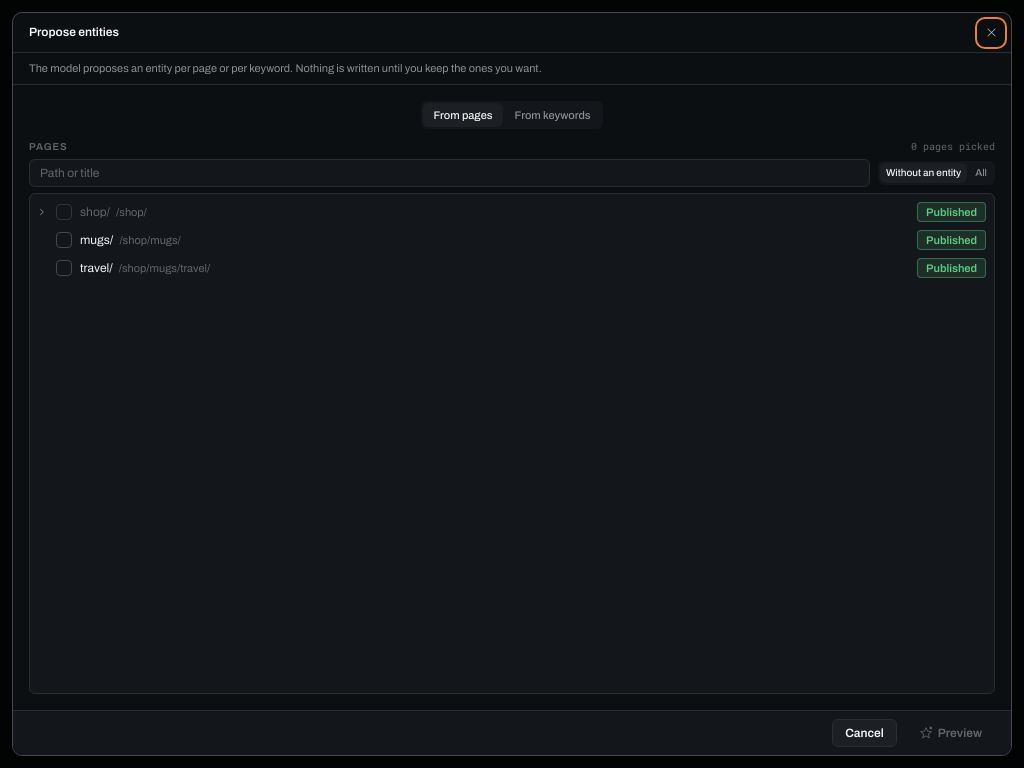
Test: what the entity proposal drawer keeps › keeps the ancestors of a search match in view
The width and height of the screenshot is (1024, 768).
Click the checkbox labelled "mugs/".
click(85, 240)  # box [56, 232, 113, 248]
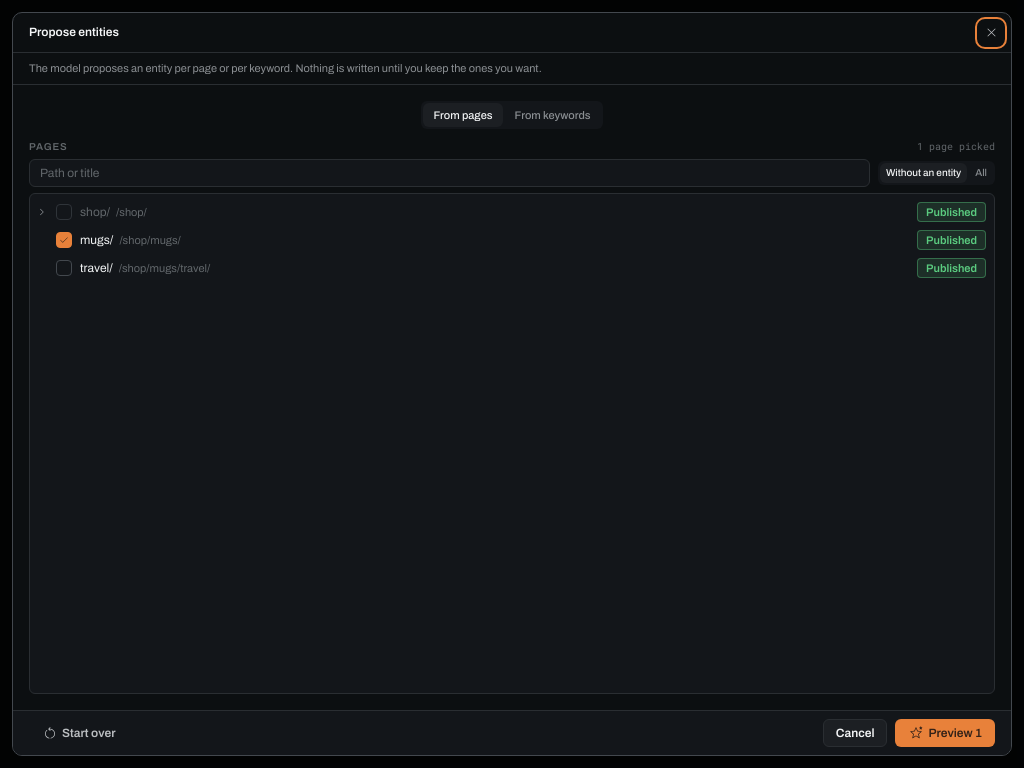
Click the checkbox labelled "travel/".
click(84, 268)  # box [56, 260, 113, 276]
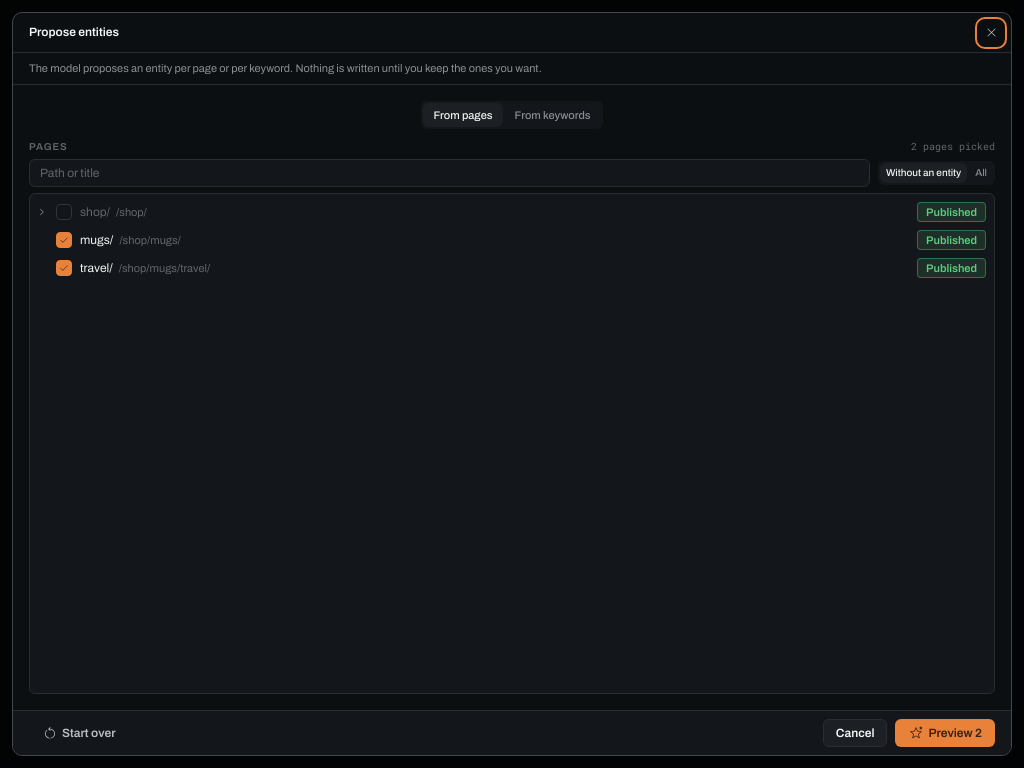
Click the button "Preview 2".
click(945, 733)  # box [896, 719, 995, 747]
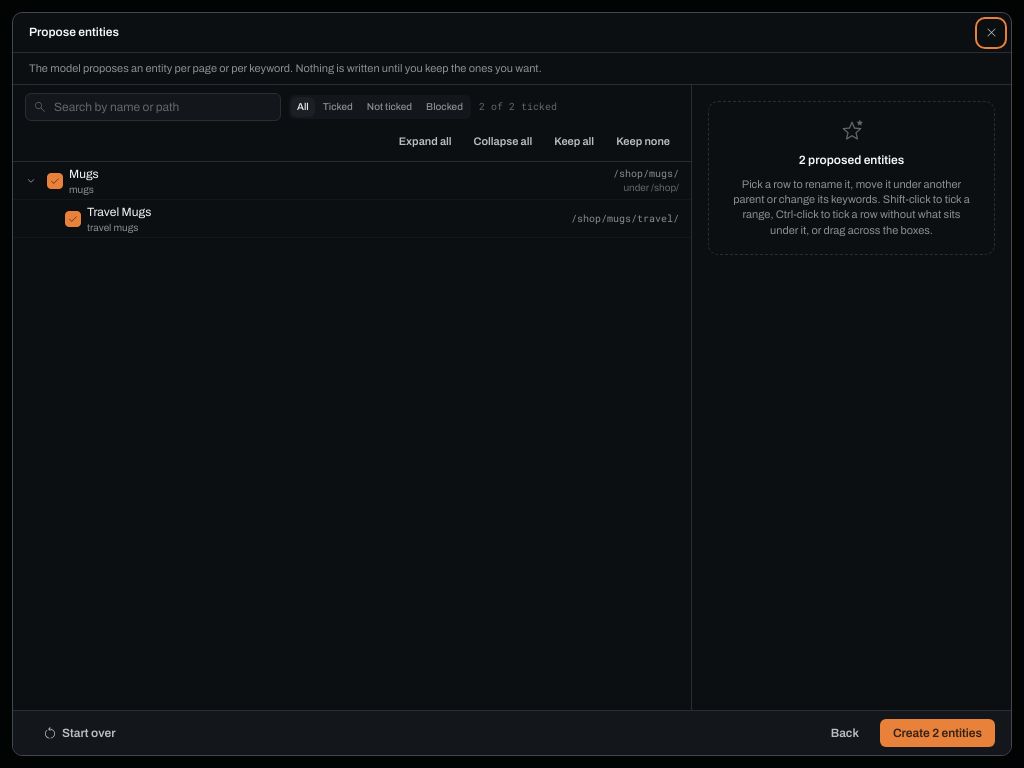
Click the button "Collapse all".
click(503, 141)  # box [464, 129, 541, 153]
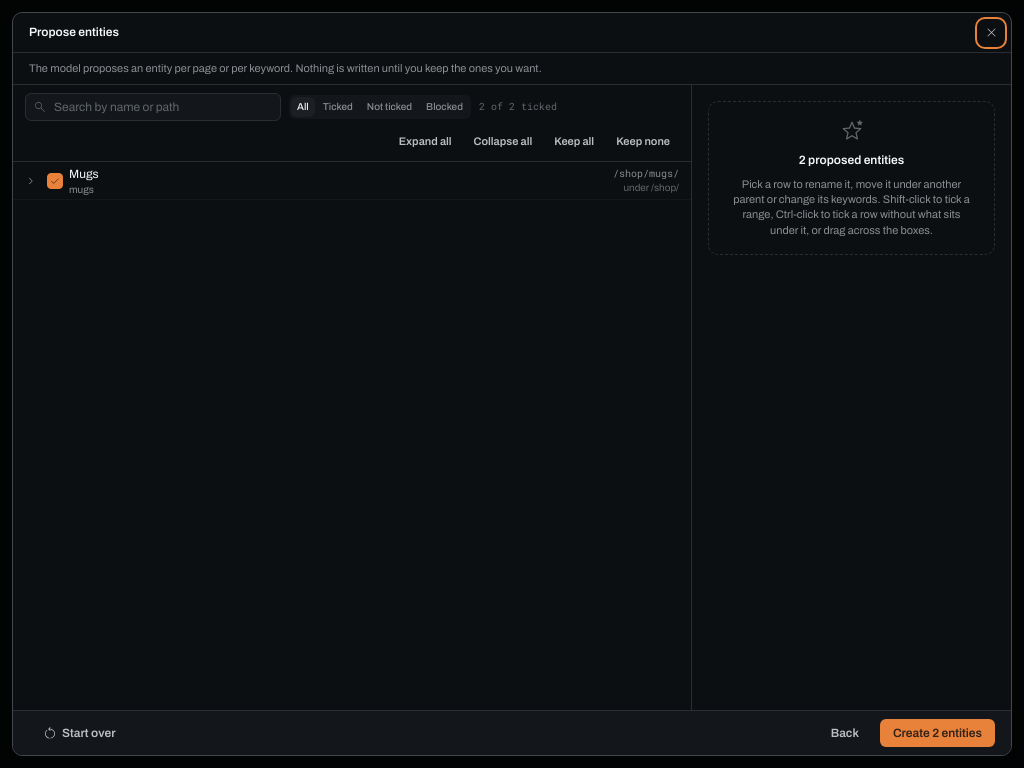
Type "travel" into the search field labelled "Search by name or path".
click(153, 107); type("travel")  # box [25, 93, 281, 121]
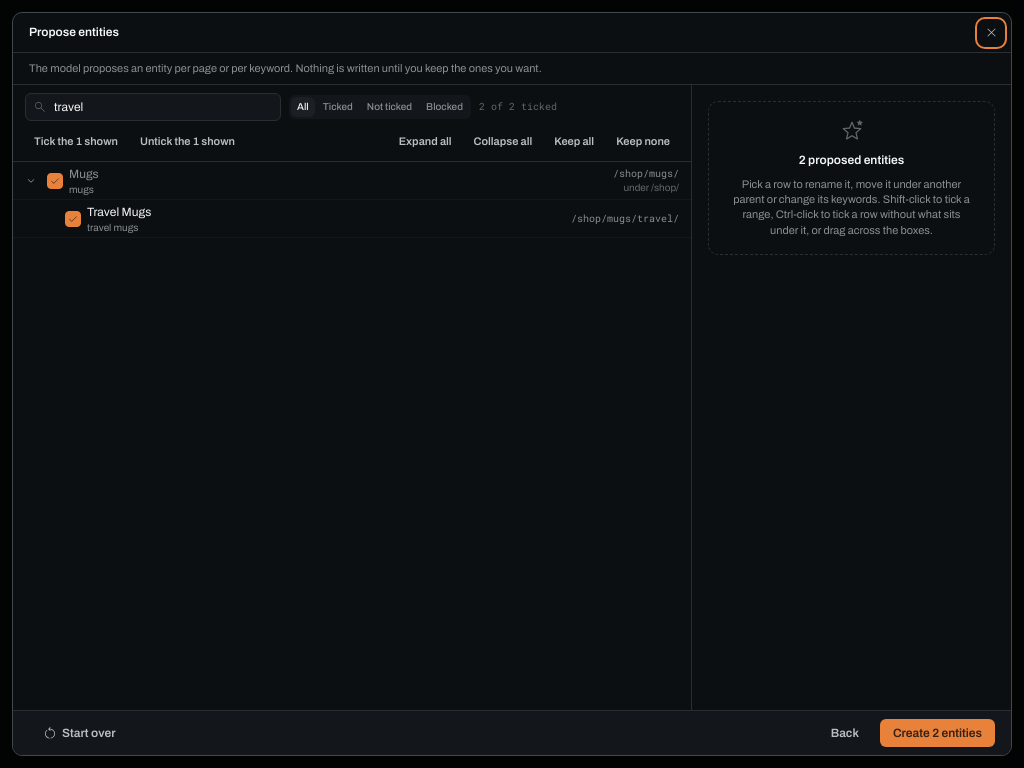
Check: the list item "Travel Mugs travel mugs /shop/mugs/travel/" is shown, box [13, 200, 691, 238]
Replace the text in the search field named "Search by name or path" with "nothing like it" at (153,107), box [25, 93, 281, 121]
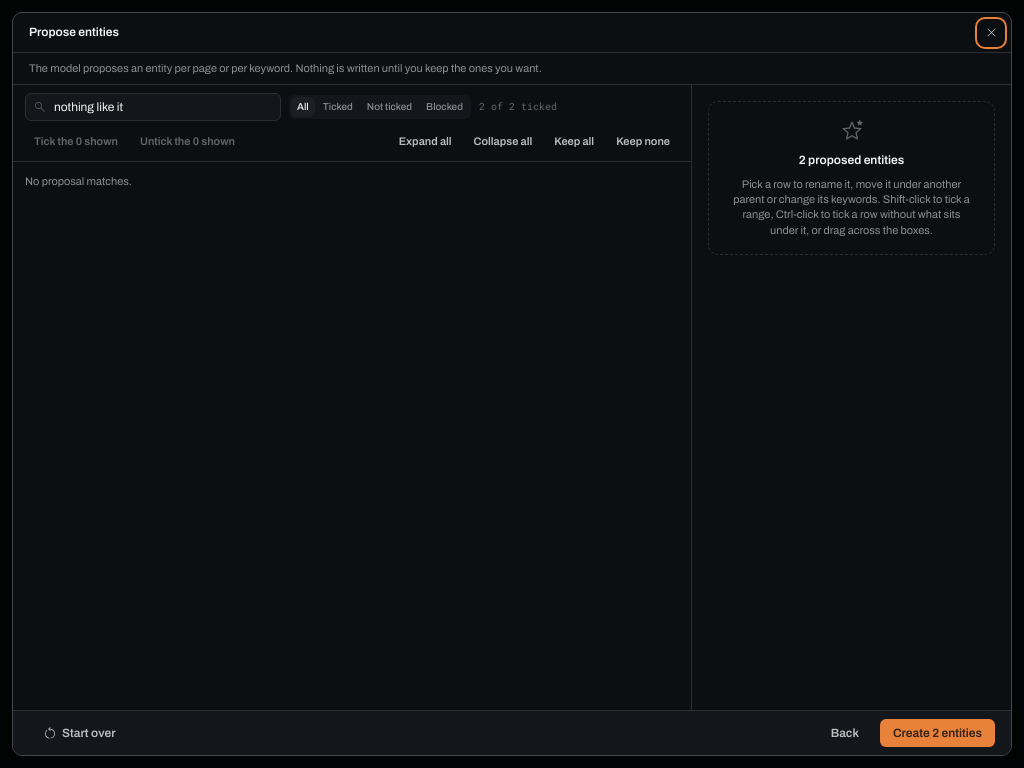
Check: the text "No proposal matches." is shown, box [25, 175, 132, 187]
